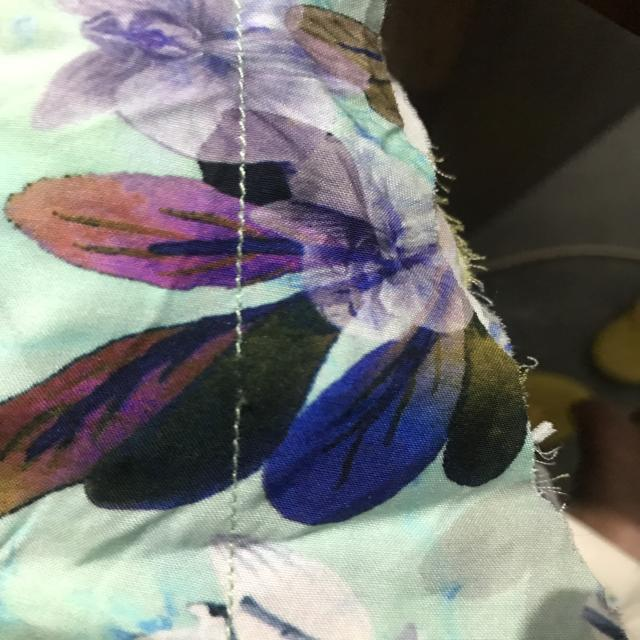broken: (220, 329, 266, 421)
good: (229, 195, 252, 273)
